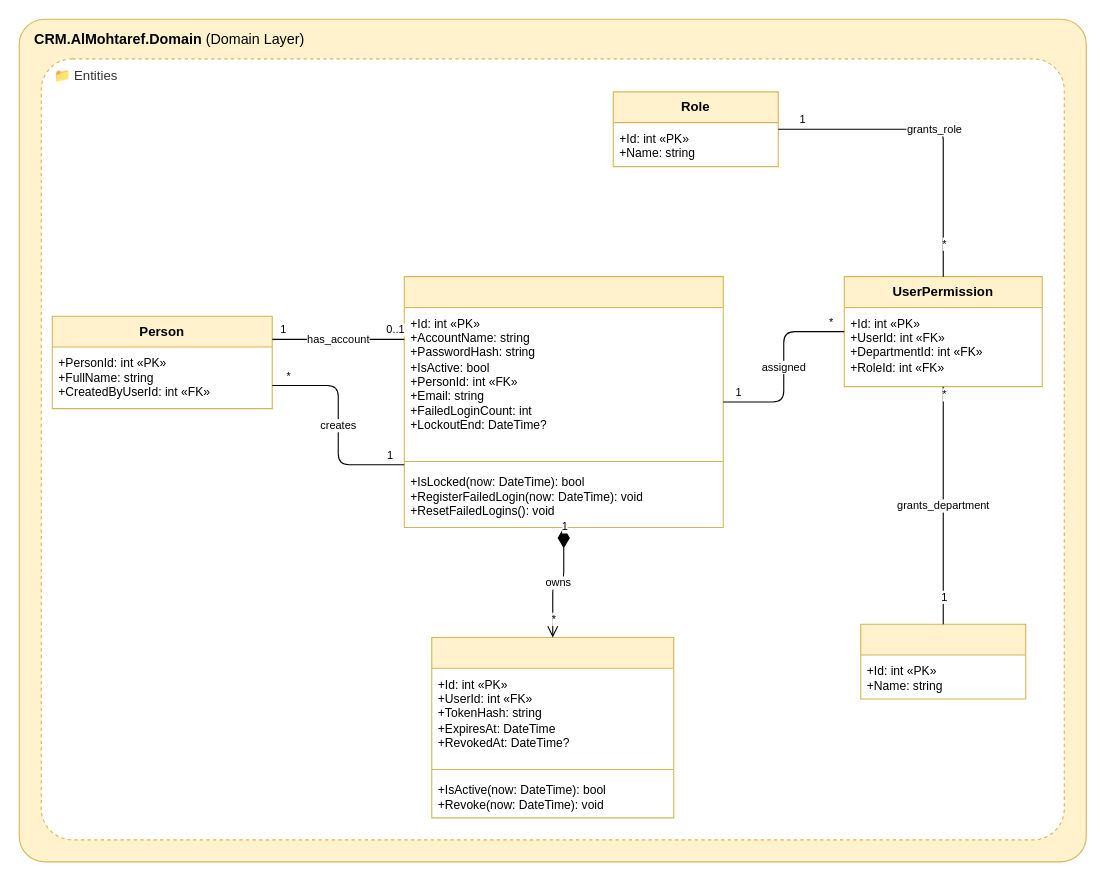
The diagram is 1106 pixels wide and 881 high, and some of its shapes have lost their labels. Each missing label, with the box of its shape:
Department: (860, 623, 1026, 699)
RefreshToken: (431, 636, 674, 818)
User: (403, 276, 723, 527)
